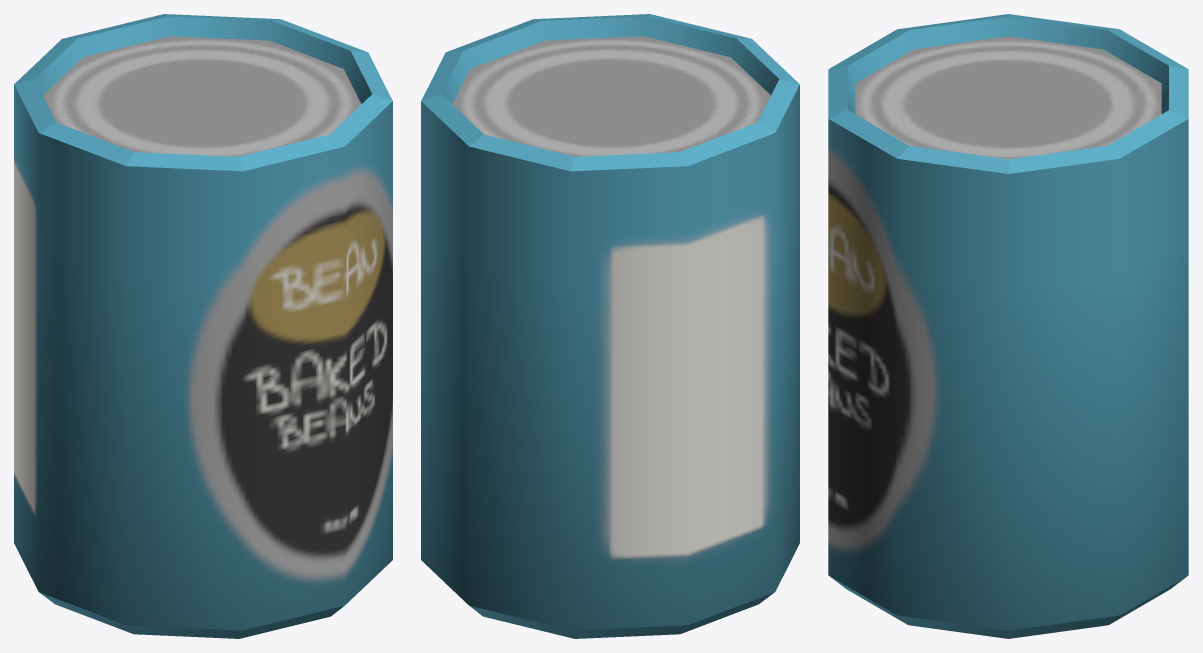
The model's file is Canned_07.fbx.
The picture shows the model from 3 angles, left to right: view 1: azimuth 30°, elevation 25°; view 2: azimuth 150°, elevation 25°; view 3: azimuth 270°, elevation 25°; orthographic projection.
Visible parts, largest first — view 1: Canned_07; view 2: Canned_07; view 3: Canned_07.
Part boxes in pixels (left/top/right/bottom): Canned_07: left=14, top=14, right=392, bottom=638; Canned_07: left=421, top=14, right=799, bottom=638; Canned_07: left=828, top=14, right=1188, bottom=638.
Size of the model in its own units: 10.26 by 14.31 by 9.76.
